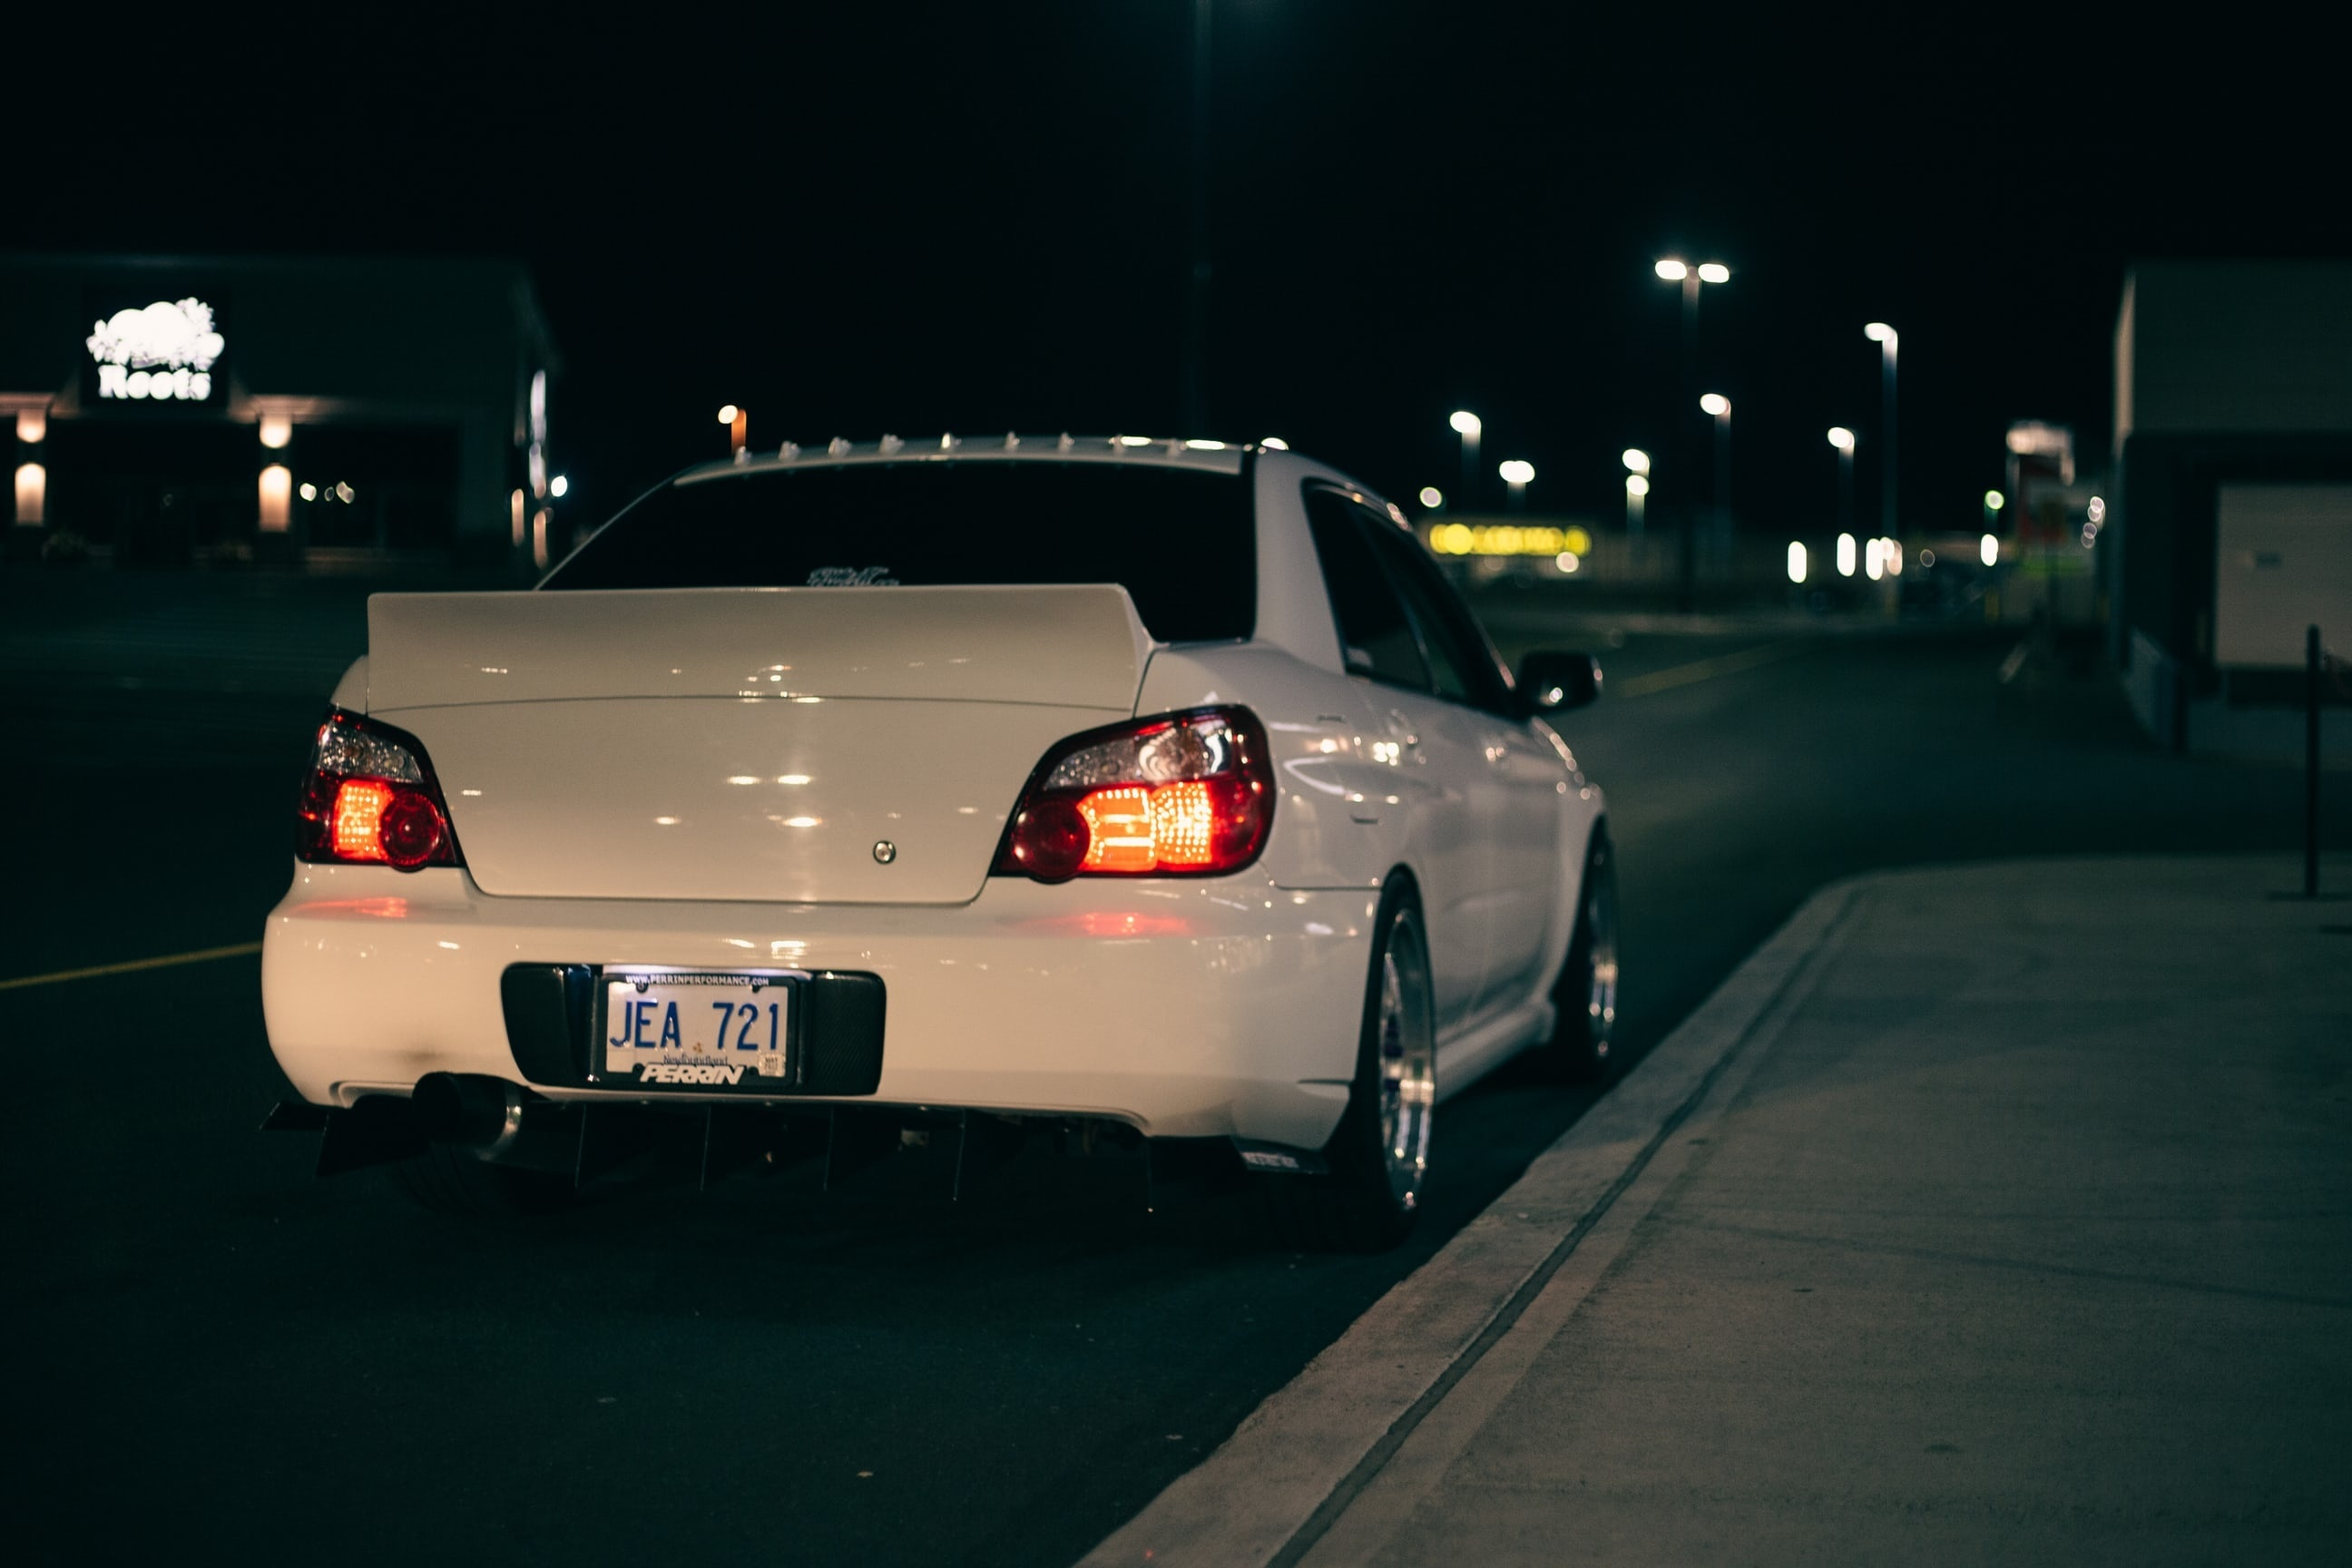plaka: (596, 974, 796, 1081)
